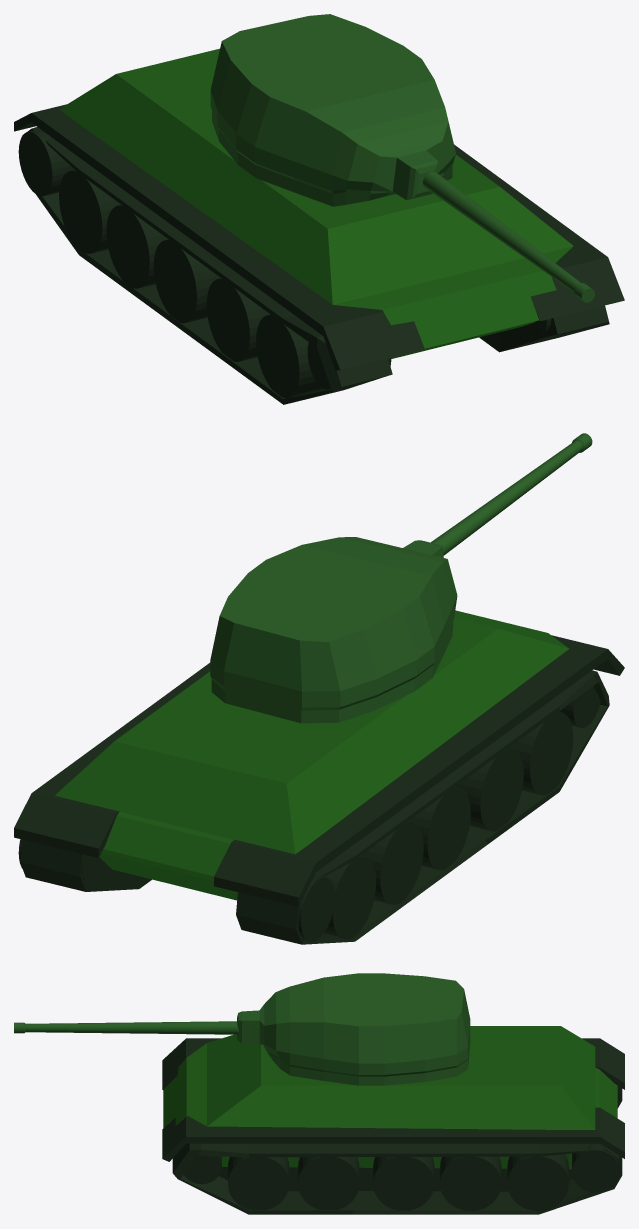
File: Panzer.fbx
3 renders of one model, top to bottom at view 1: azimuth 30°, elevation 25°; view 2: azimuth 150°, elevation 25°; view 3: azimuth 270°, elevation 25°, orthographic. The views are drawn at different scales.
Parts seen in each view (by area): view 1: Cube.002, Cube, Cube.001; view 2: Cube.002, Cube, Cube.001; view 3: Cube.002, Cube, Cube.001.
Part boxes in pixels (bbox=[...]): Cube.002: bbox=[14, 104, 624, 404]; Cube: bbox=[59, 48, 573, 358]; Cube.001: bbox=[210, 14, 594, 302]; Cube.002: bbox=[14, 635, 624, 944]; Cube: bbox=[55, 610, 568, 900]; Cube.001: bbox=[210, 433, 592, 723]; Cube.002: bbox=[162, 1038, 624, 1214]; Cube: bbox=[163, 1026, 617, 1169]; Cube.001: bbox=[14, 973, 470, 1085].
Size of the model in its own units: 136 by 108 by 358.
